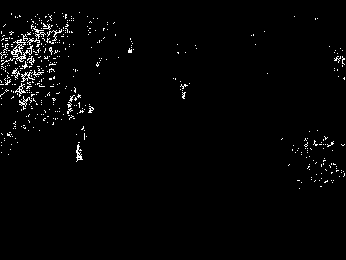person: (63, 86, 97, 160)
